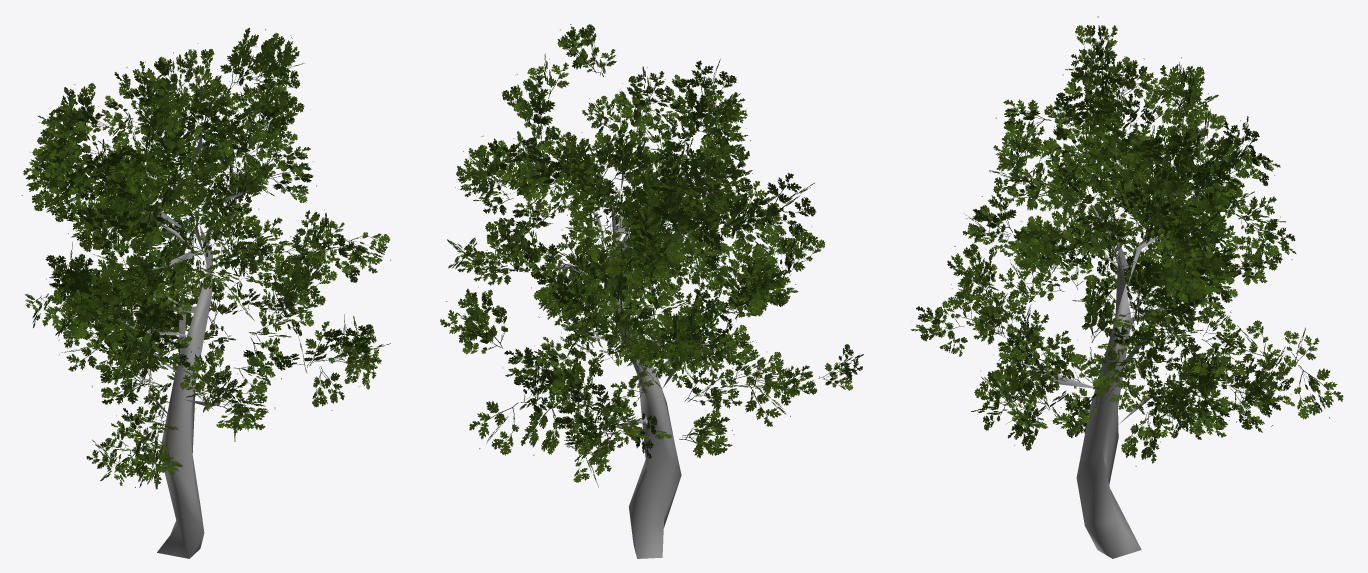
Rendered from oak5 lod1.FBX.
3 renders of one model, left to right at view 1: azimuth 30°, elevation 25°; view 2: azimuth 150°, elevation 25°; view 3: azimuth 270°, elevation 25°, orthographic. The views are drawn at different scales.
Visible parts, largest first — view 1: oak_5_LOD1; view 2: oak_5_LOD1; view 3: oak_5_LOD1.
Part boxes in pixels (x1=…): oak_5_LOD1: x1=21, y1=27, x2=390, y2=558; oak_5_LOD1: x1=440, y1=24, x2=863, y2=558; oak_5_LOD1: x1=910, y1=16, x2=1343, y2=558.
Size of the model in its own units: 104113 by 135336 by 108243.
